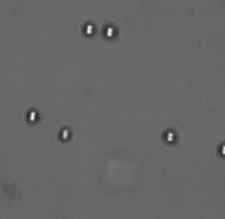Living Cell: (101, 21, 120, 41), (160, 127, 178, 147), (56, 125, 73, 143), (81, 21, 97, 38), (24, 106, 39, 124)
